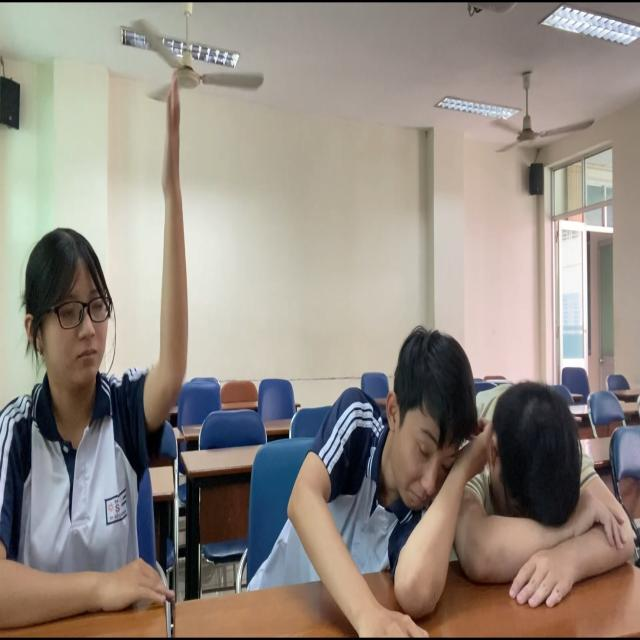raise_hand: (1, 60, 200, 640)
sleep: (469, 359, 640, 608)
